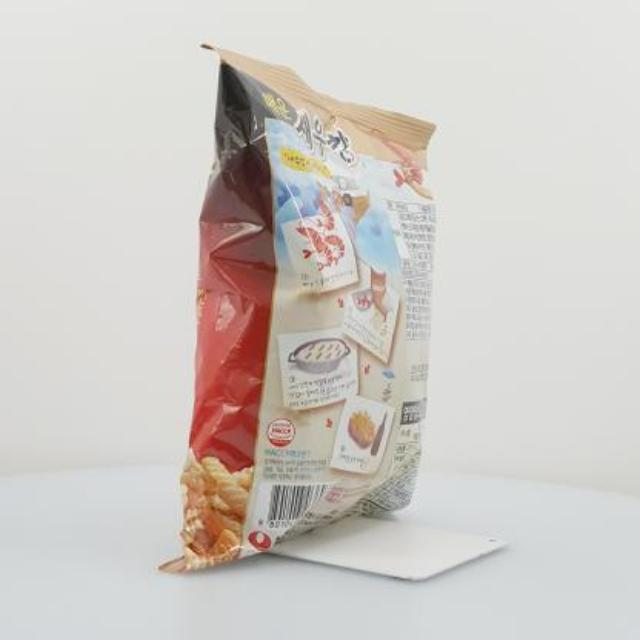snack_bag: (142, 34, 462, 582)
